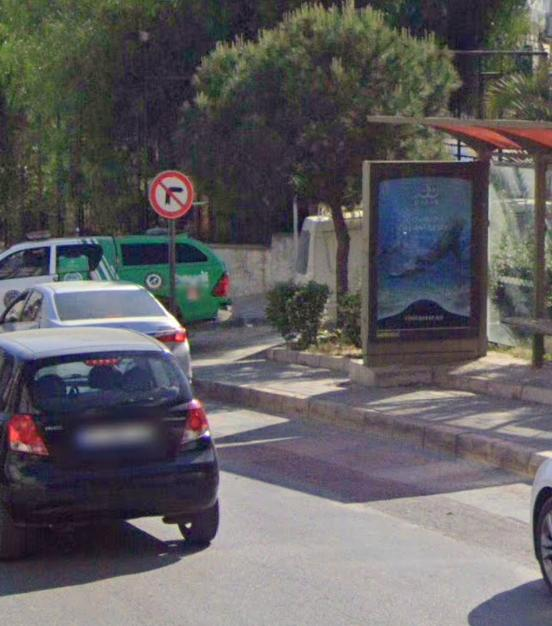rightturnsareforbidden: (153, 173, 194, 218)
